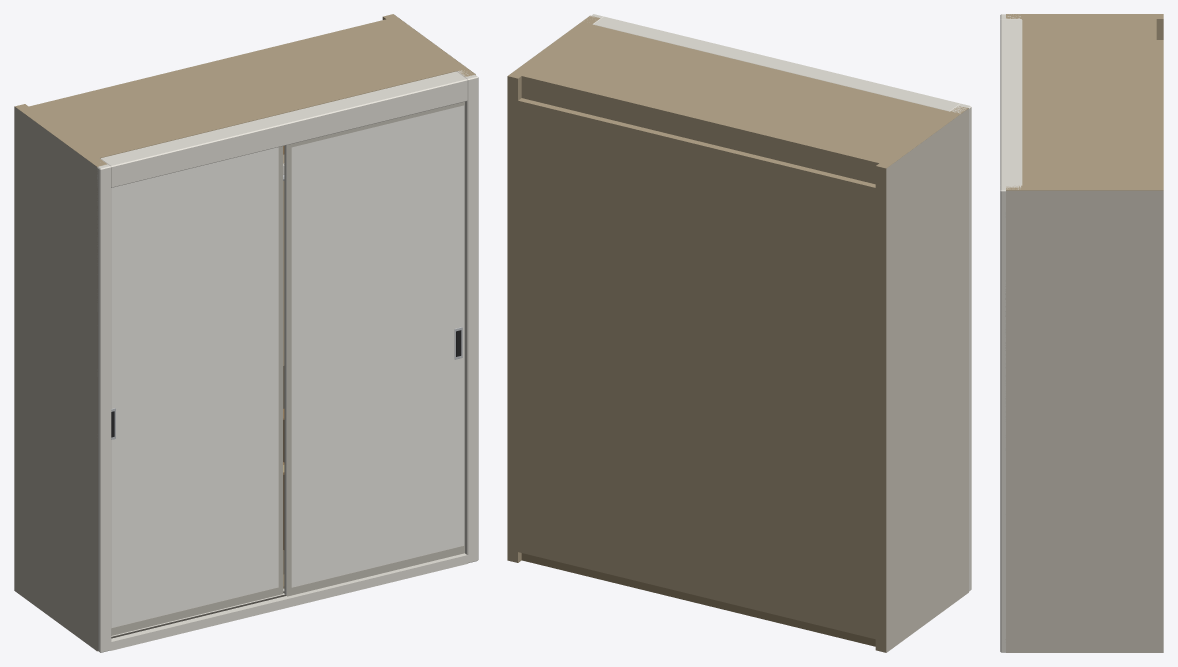
File: closet.glb
3 renders of one model, left to right at view 1: azimuth 30°, elevation 25°; view 2: azimuth 150°, elevation 25°; view 3: azimuth 270°, elevation 25°, orthographic. The views are drawn at different scales.
Visible parts, largest first — view 1: body, door_r, door_l; view 2: body; view 3: body.
Boxes of the visible parts, x1,y1,x2,y2 form: body: (14,14,478,652); door_r: (284,101,464,596); door_l: (111,146,283,635); body: (507,14,971,652); body: (1000,14,1163,652).
Bounding box in the file's own units: 1.8 × 2.2 × 0.705.
